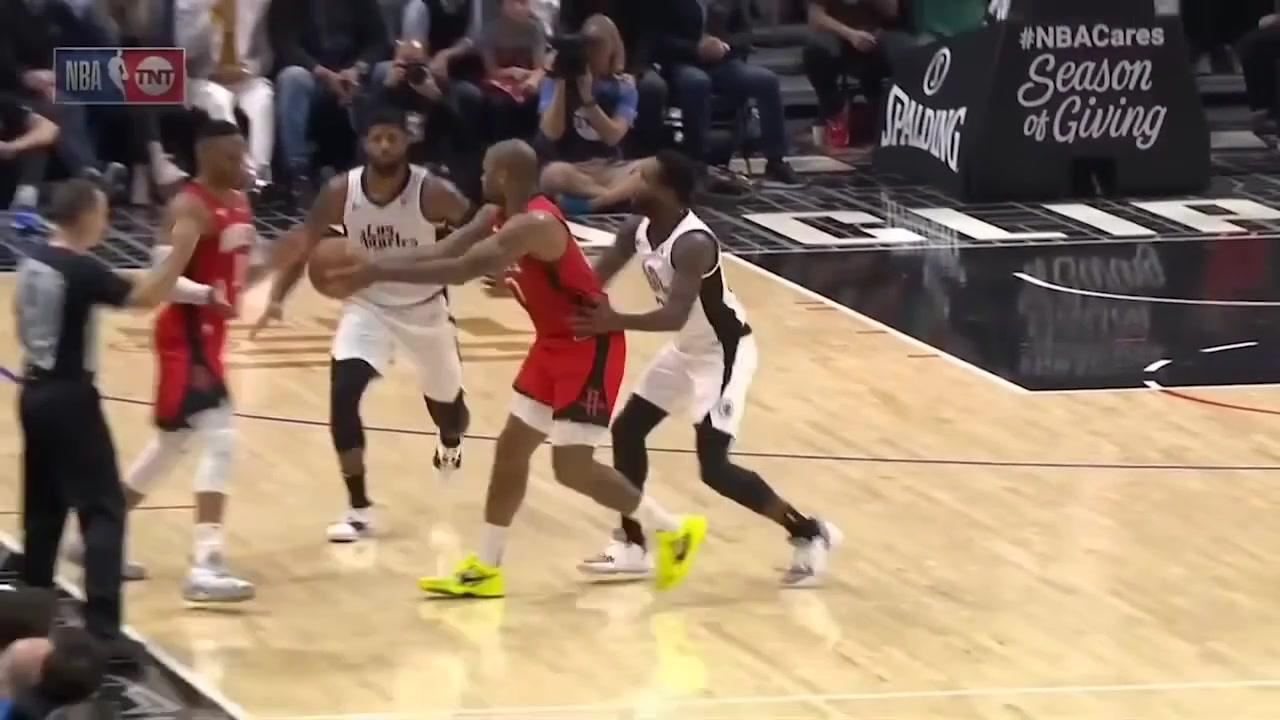foul: (409, 145, 856, 599)
